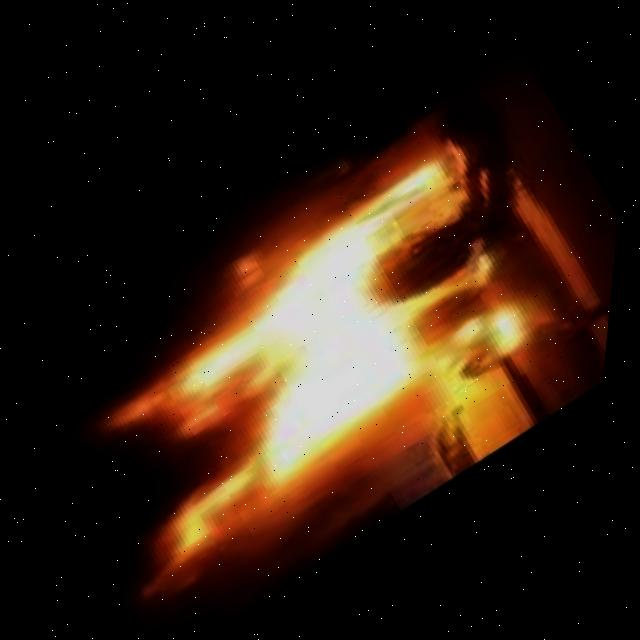Fire: (33, 156, 559, 605)
